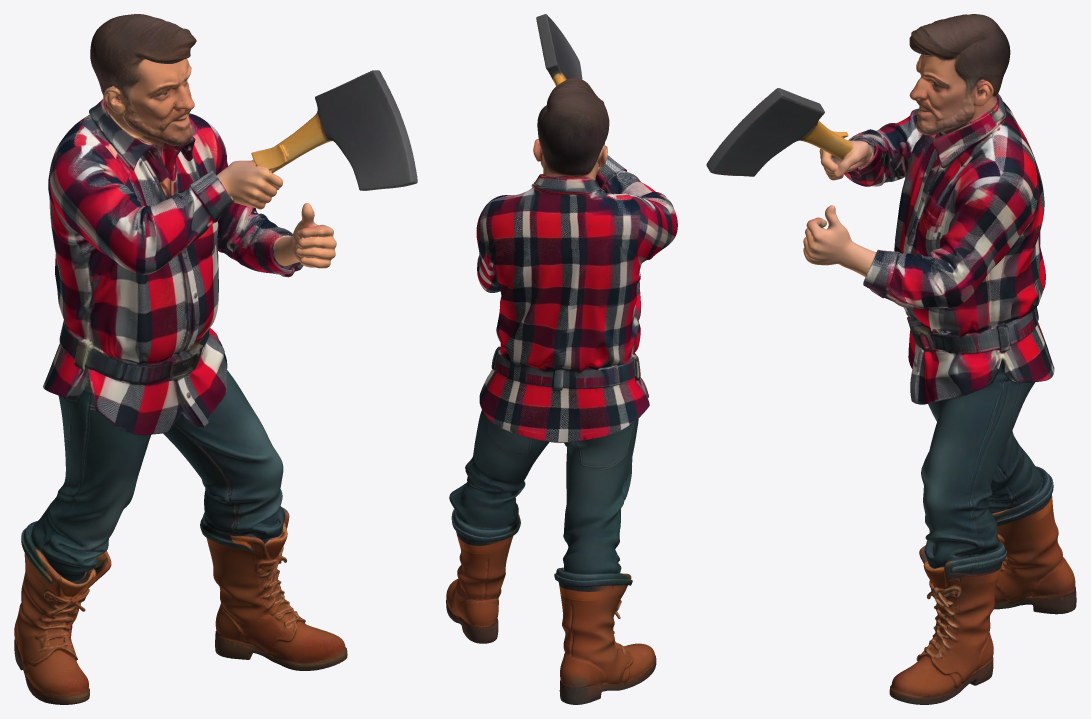
File: manusia.glb
3 views of the same model, side by side, from view 1: azimuth 30°, elevation 25°; view 2: azimuth 150°, elevation 25°; view 3: azimuth 270°, elevation 25° (orthographic). The views are drawn at different scales.
Parts seen in each view (by area): view 1: Object_5; view 2: Object_5; view 3: Object_5.
Boxes of the visible parts, x1,y1,x2,y2 form: Object_5: (14,14,417,704); Object_5: (446,14,677,704); Object_5: (706,14,1076,704).
Bounding box in the file's own units: 0.8074 × 1.9 × 1.04.
1 material, 1 textured.
